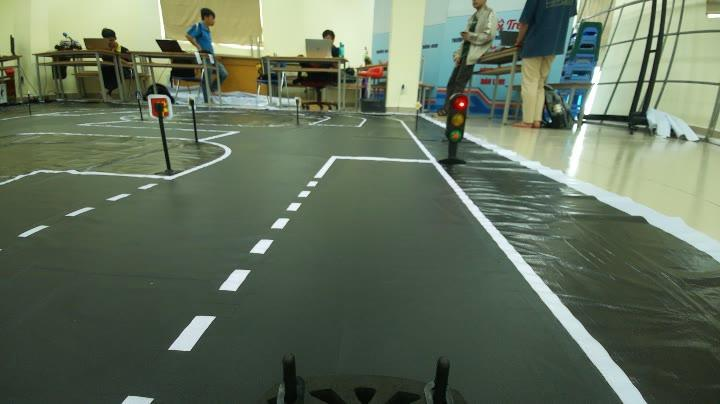trafficlight: (430, 90, 476, 170)
